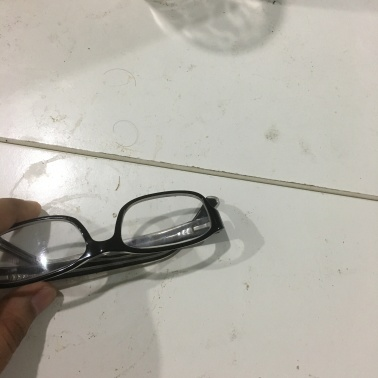glasses: (5, 204, 220, 271)
